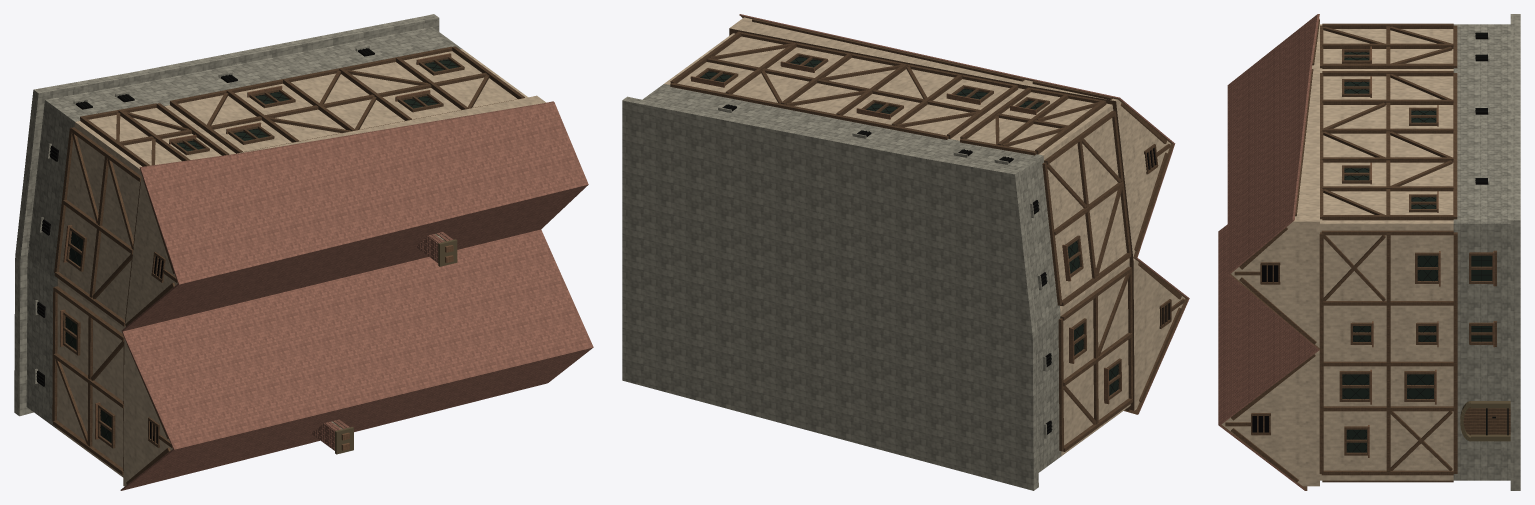
Rendered from SM_GLMedieval_NorthMarketDetail_west_d08bbb3b.obj.
The picture shows the model from 3 angles, left to right: view 1: azimuth 30°, elevation 25°; view 2: azimuth 150°, elevation 25°; view 3: azimuth 270°, elevation 25°; orthographic projection. The views are drawn at different scales.
Size of the model in its own units: 18.52 by 13.42 by 12.2.
Materials: 10 (6 with a texture image).
